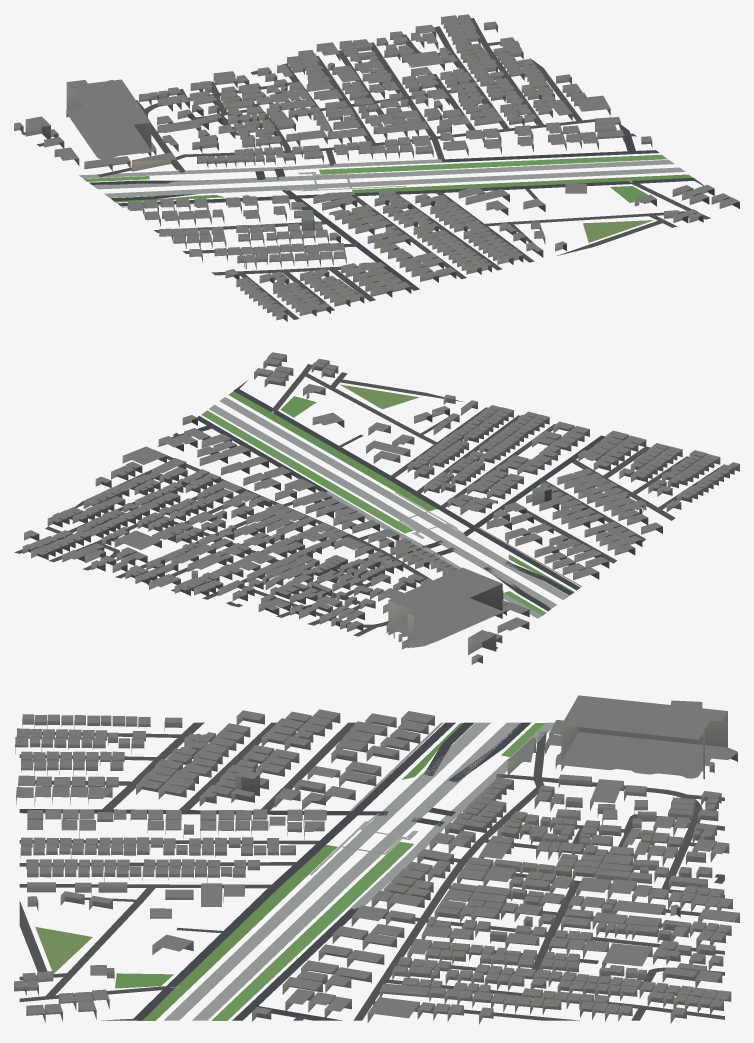
3 renders of one model, top to bottom at view 1: azimuth 30°, elevation 25°; view 2: azimuth 150°, elevation 25°; view 3: azimuth 270°, elevation 25°, orthographic. The views are drawn at different scales.
Visible parts, largest first — view 1: building, ground; view 2: building, ground; view 3: building, ground.
Part boxes in pixels (x1,y1,x2,y2): building: (14,14,739,321); ground: (21,18,710,319); building: (22,352,739,664); ground: (14,364,718,661); building: (14,695,739,1024); ground: (19,722,724,1020).
Size of the model in its own units: 518 by 36.55 by 515.
